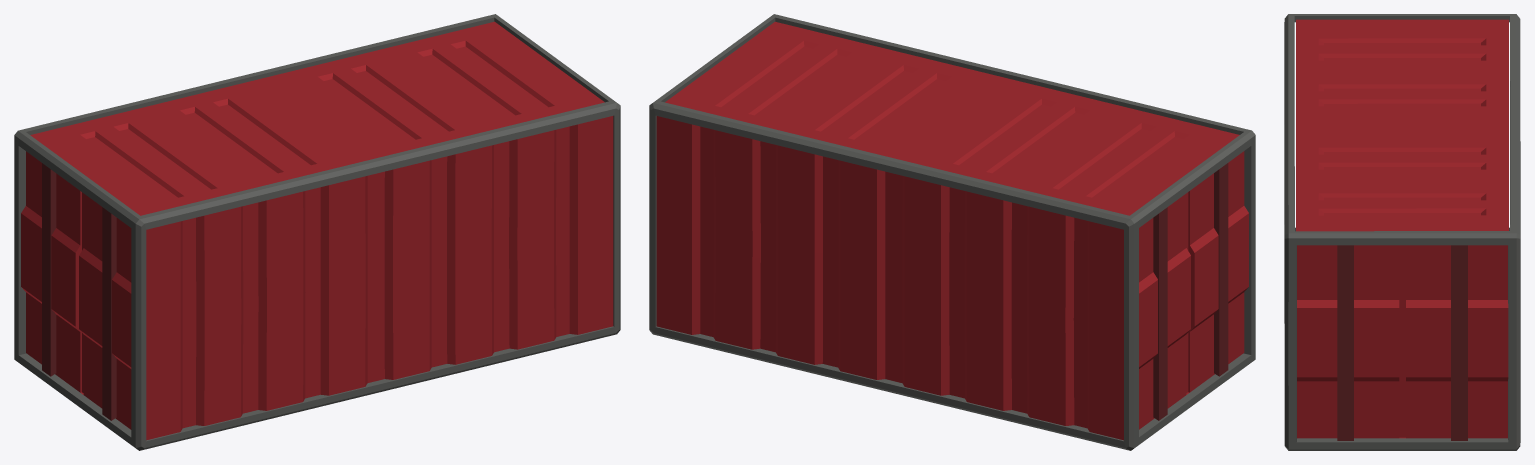
The model's file is container_red.glb.
The picture shows the model from 3 angles, left to right: view 1: azimuth 30°, elevation 25°; view 2: azimuth 150°, elevation 25°; view 3: azimuth 270°, elevation 25°; orthographic projection. The views are drawn at different scales.
Parts seen in each view (by area): view 1: Container_Red; view 2: Container_Red; view 3: Container_Red.
Boxes of the visible parts, x1=… form: Container_Red: x1=14, y1=14, x2=620, y2=450; Container_Red: x1=649, y1=14, x2=1255, y2=450; Container_Red: x1=1284, y1=14, x2=1520, y2=450.
Size of the model in its own units: 5.71 by 2.6 by 2.56.
Materials: 1 (1 with a texture image).
